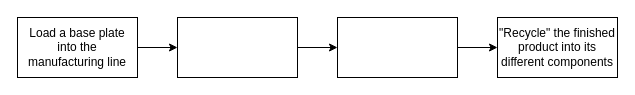
Image size: 635x95. Some labels were removed from this diagram. The shapes that lost their labels are listed below. From the top down, each one's centre as x and y in pixels, then its label:
At (237,47): "Wait for the product to be assembled".
At (397,47): "Unload the finished product from the manufacturing line".
